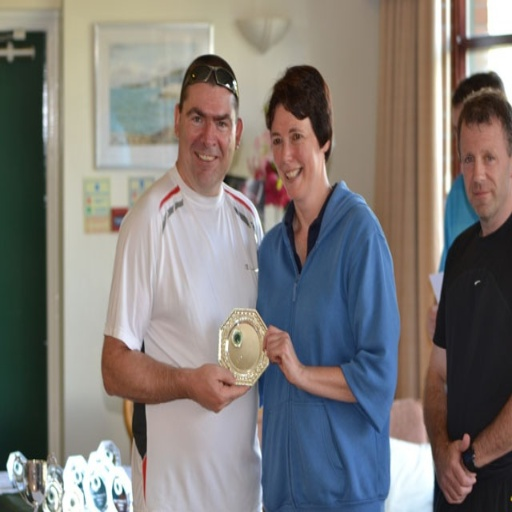hand: (182, 358, 253, 414), (433, 429, 477, 506), (261, 322, 302, 382)
